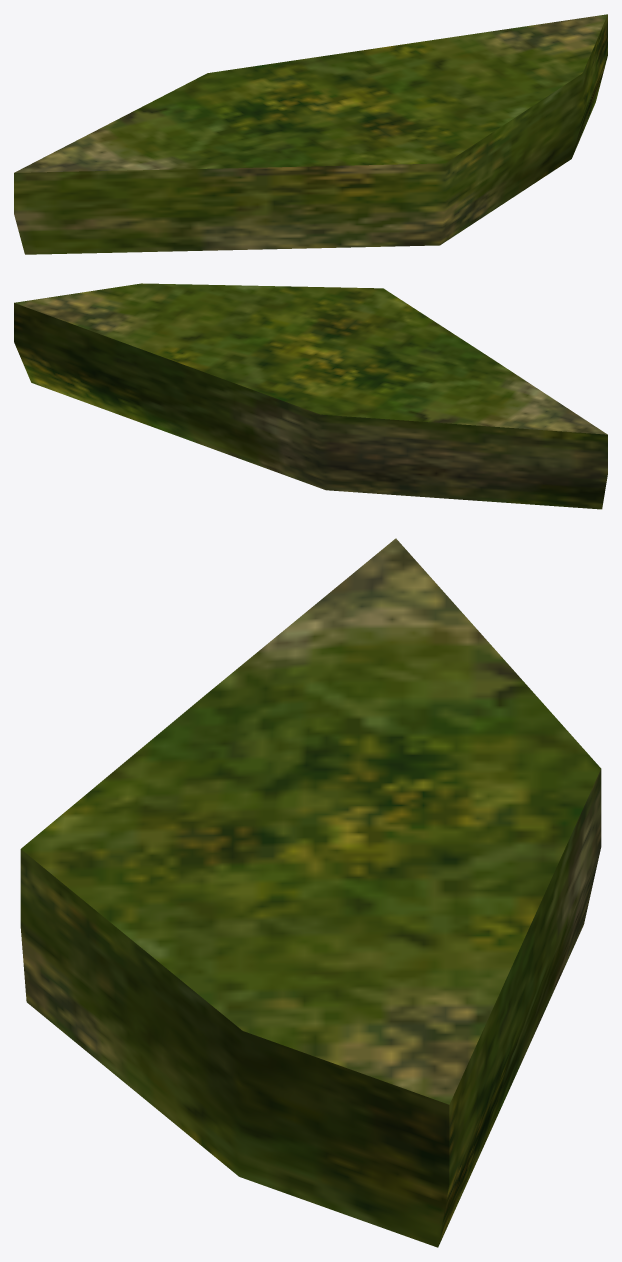
File: ANIMATEDINSTANCES_ROOF_FALL_04__AI.fbx
3 renders of one model, top to bottom at view 1: azimuth 30°, elevation 25°; view 2: azimuth 150°, elevation 25°; view 3: azimuth 270°, elevation 25°, orthographic. The views are drawn at different scales.
Visible parts, largest first — view 1: ANIMATEDINSTANCES_ROOF_FALL_04__AI; view 2: ANIMATEDINSTANCES_ROOF_FALL_04__AI; view 3: ANIMATEDINSTANCES_ROOF_FALL_04__AI.
Part boxes in pixels (x1=…): ANIMATEDINSTANCES_ROOF_FALL_04__AI: x1=14, y1=14, x2=607, y2=254; ANIMATEDINSTANCES_ROOF_FALL_04__AI: x1=14, y1=283, x2=607, y2=509; ANIMATEDINSTANCES_ROOF_FALL_04__AI: x1=20, y1=538, x2=601, y2=1247.
Bounding box in the file's own units: 19347 × 2500 × 8376.
1 material, 1 textured.
